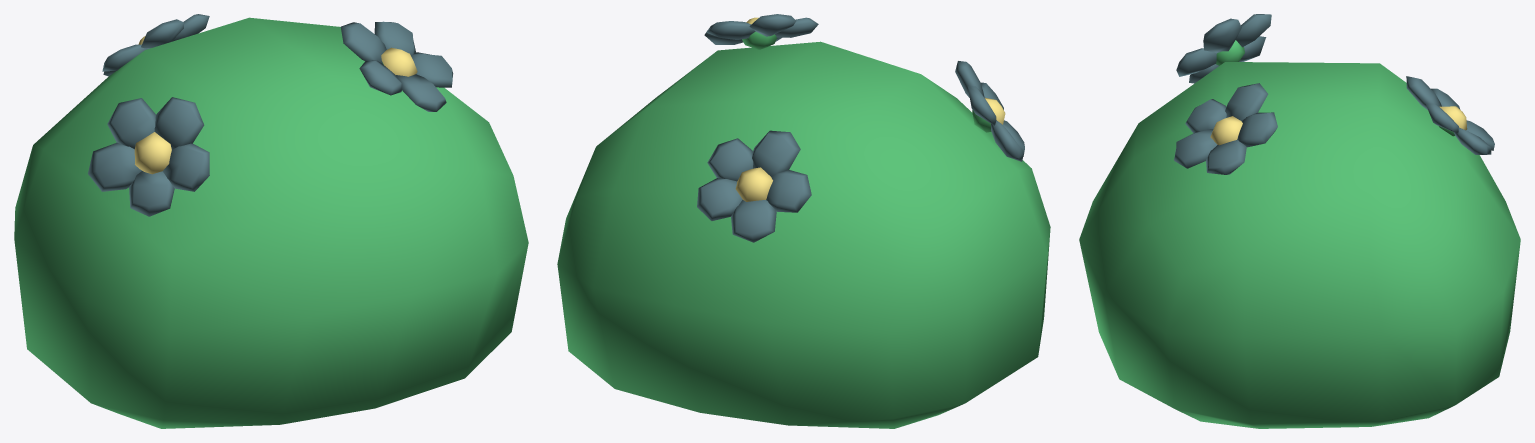
File: FlowerBush_A_0_LOD2.gltf
The picture shows the model from 3 angles, left to right: view 1: azimuth 30°, elevation 25°; view 2: azimuth 150°, elevation 25°; view 3: azimuth 270°, elevation 25°; orthographic projection. The views are drawn at different scales.
Visible parts, largest first — view 1: FlowerBush_A_0_LOD2_Cube.721; view 2: FlowerBush_A_0_LOD2_Cube.721; view 3: FlowerBush_A_0_LOD2_Cube.721.
Boxes of the visible parts, x1,y1,x2,y2 form: FlowerBush_A_0_LOD2_Cube.721: [14, 14, 528, 428]; FlowerBush_A_0_LOD2_Cube.721: [557, 14, 1050, 428]; FlowerBush_A_0_LOD2_Cube.721: [1079, 14, 1520, 428].
Size of the model in its own units: 5.52 by 4.07 by 5.41.
Materials: 1 (1 with a texture image).
